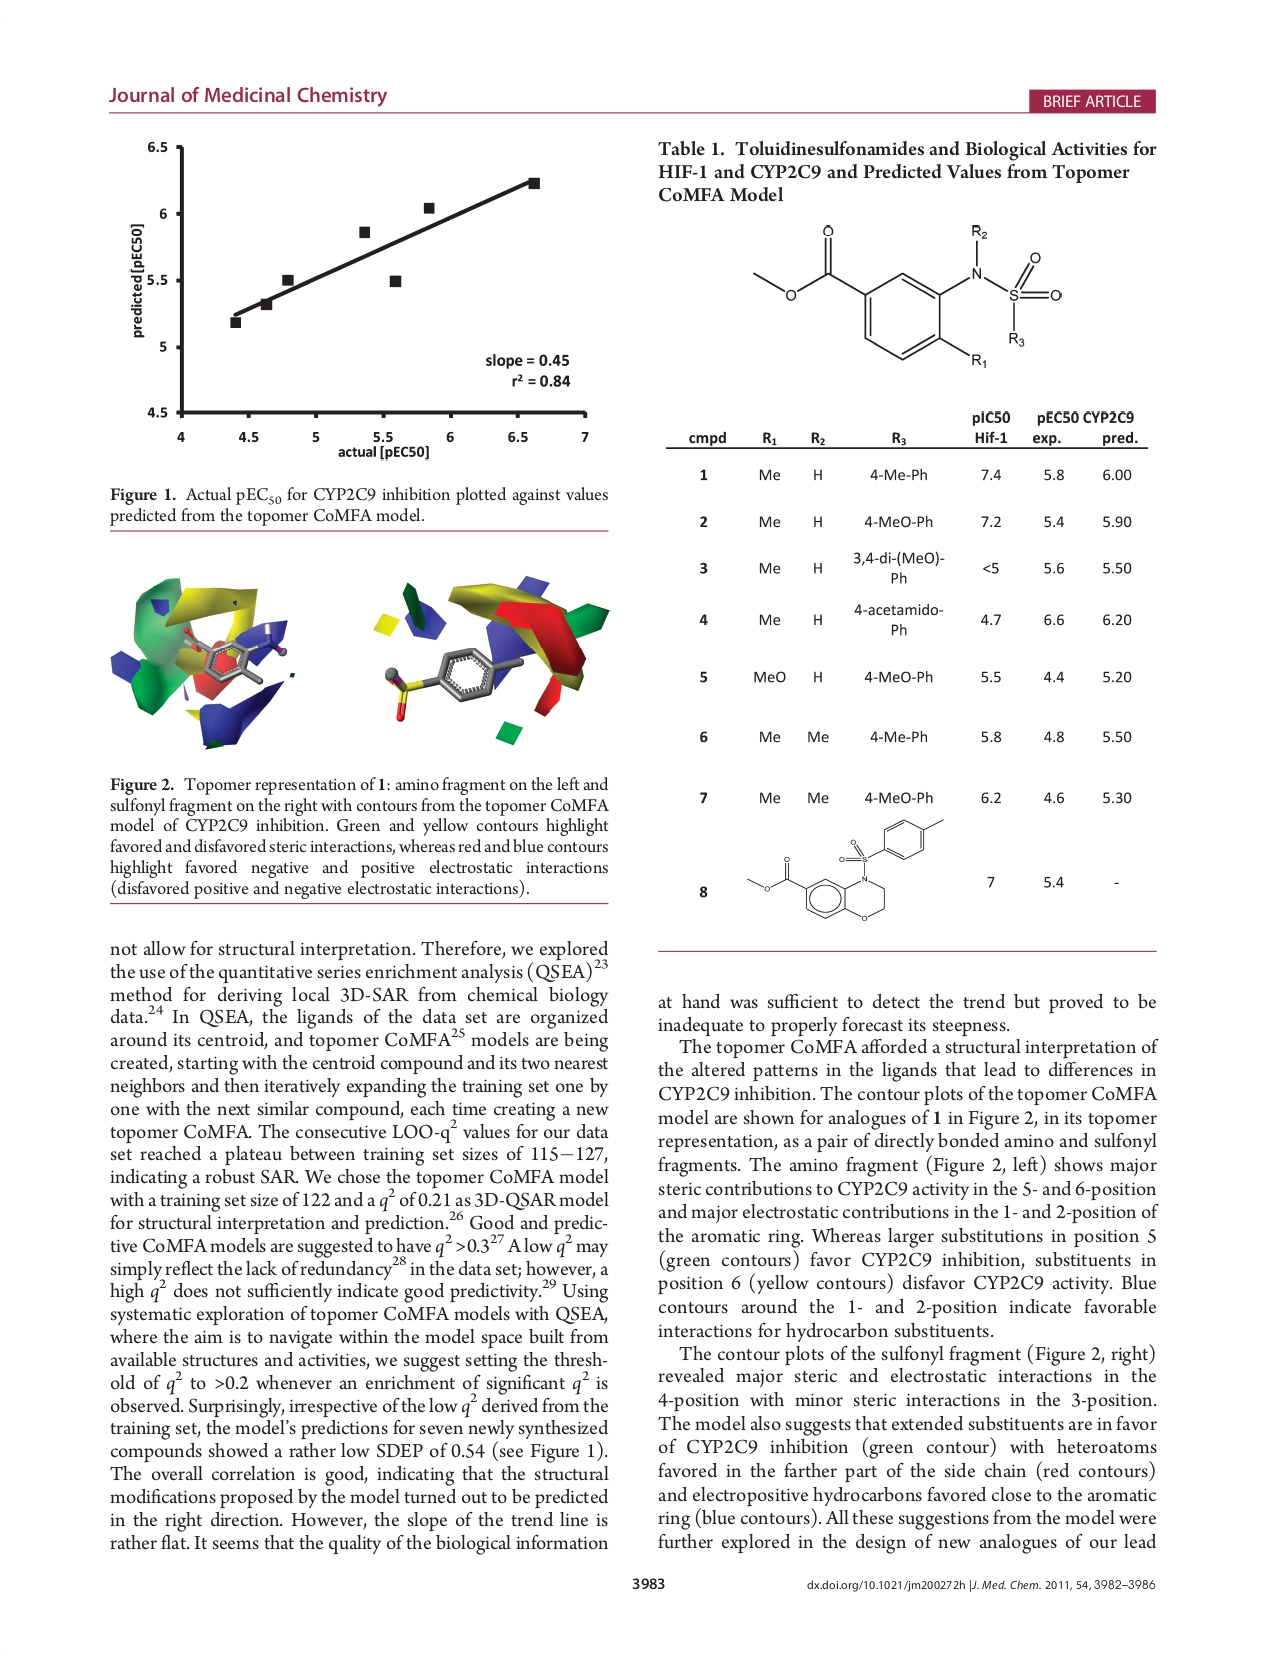exist_molecular: (746, 217, 1069, 374), (739, 814, 947, 927)
